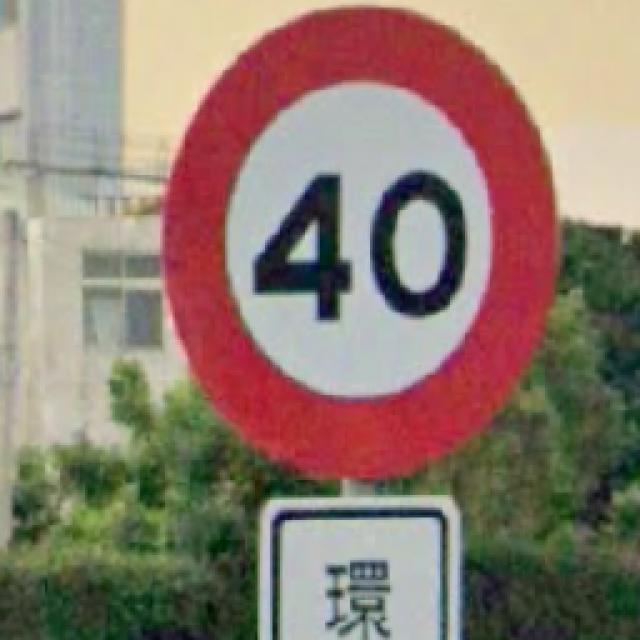Speed Limit -40-: (165, 8, 552, 472)
